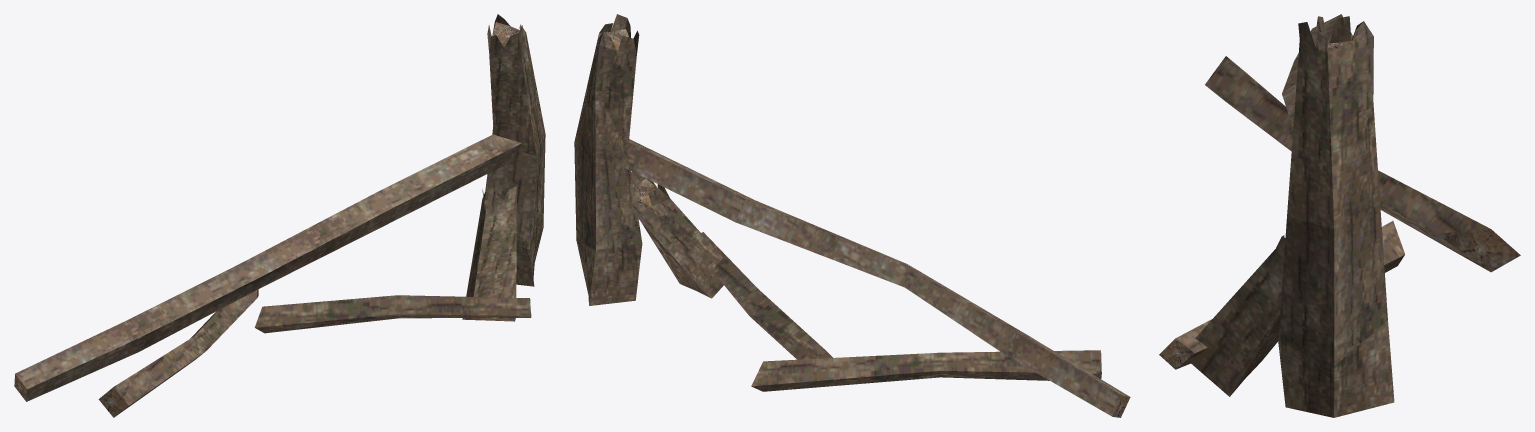
Rendered from Urban_WoodenFenceBrokenAlt2_Model.fbx.
3 views of the same model, side by side, from view 1: azimuth 30°, elevation 25°; view 2: azimuth 150°, elevation 25°; view 3: azimuth 270°, elevation 25° (orthographic). The views are drawn at different scales.
Parts seen in each view (by area): view 1: Urban_WoodenFenceBrokenAlt2_Mesh; view 2: Urban_WoodenFenceBrokenAlt2_Mesh; view 3: Urban_WoodenFenceBrokenAlt2_Mesh.
Boxes of the visible parts, x1,y1,x2,y2 form: Urban_WoodenFenceBrokenAlt2_Mesh: (14,14,545,417); Urban_WoodenFenceBrokenAlt2_Mesh: (574,14,1130,417); Urban_WoodenFenceBrokenAlt2_Mesh: (1159,14,1520,417).
Size of the model in its own units: 2.07 by 1.03 by 0.83.
